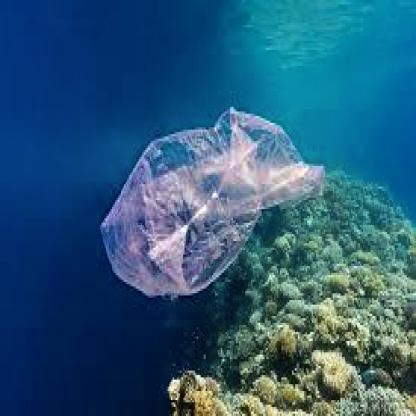pbag: (100, 107, 328, 302)
